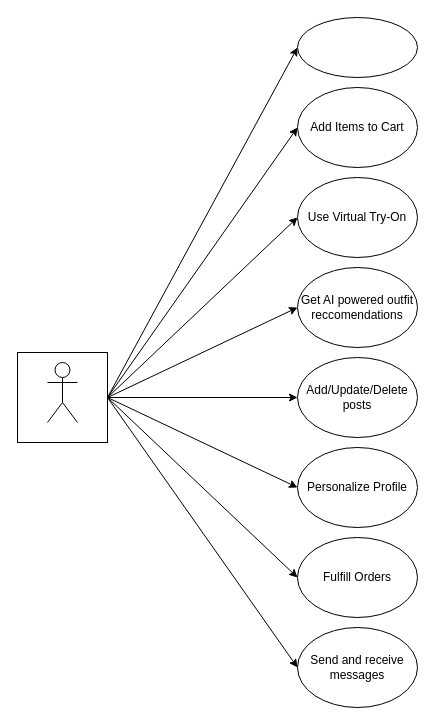
The diagram is 435 pixels wide and 725 high, and some of its shapes have lost their labels. The centre of each missing label's shape, as x and y in pixels:
"Browse Filtered Catalog Of Clothing" goes at point 357,47.
"User" goes at point 62,392.
